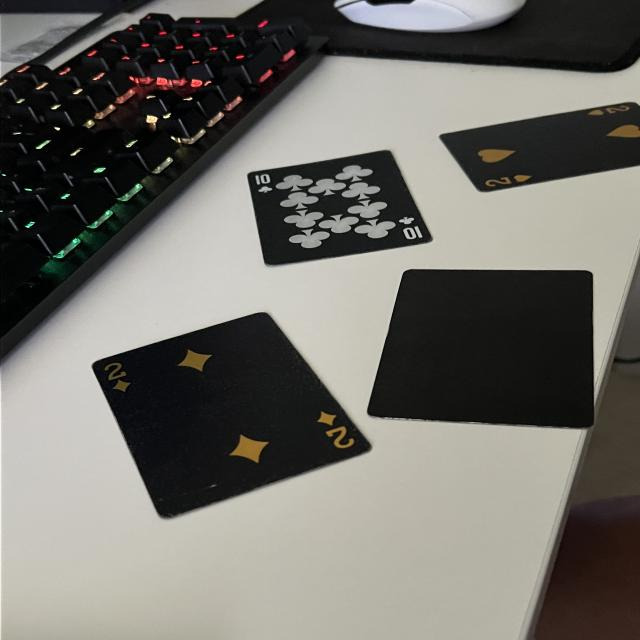10C: (398, 215, 426, 243), (252, 173, 278, 194)
2D: (314, 411, 359, 450), (100, 362, 136, 393)
2H: (484, 174, 536, 188), (586, 103, 633, 117)
BACK: (359, 268, 599, 437)
